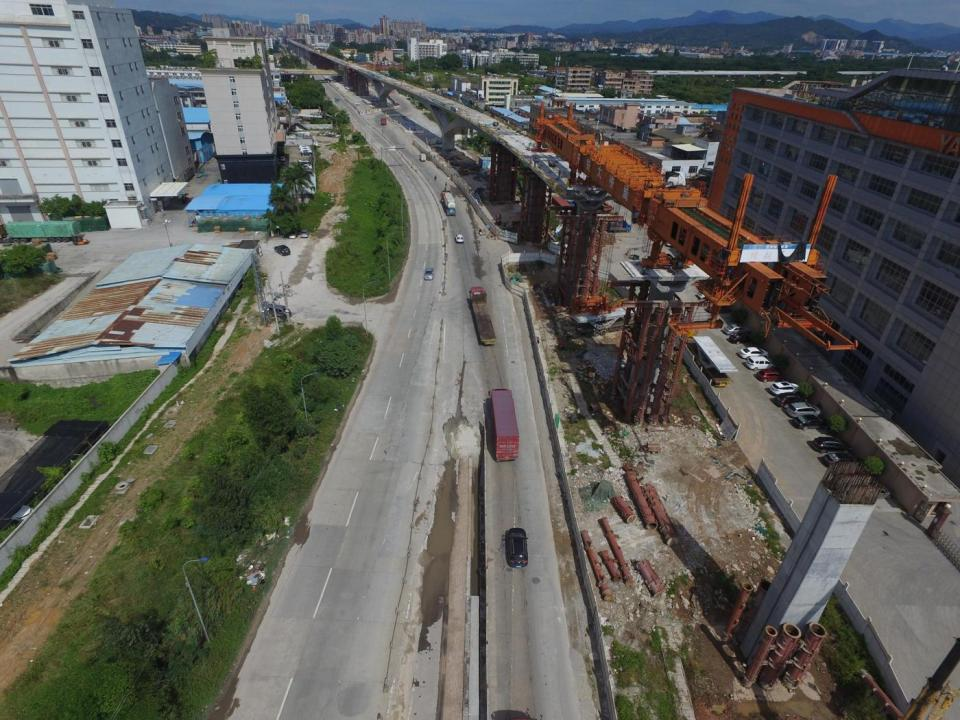bus: (335, 97, 340, 103)
car: (504, 528, 526, 567), (0, 502, 32, 525), (813, 436, 852, 454), (786, 401, 823, 417), (792, 415, 826, 430), (824, 454, 859, 468), (775, 393, 808, 407), (756, 368, 786, 383), (746, 357, 776, 371), (770, 382, 799, 395), (740, 348, 770, 360), (723, 324, 751, 336), (695, 288, 721, 300), (730, 333, 754, 344), (706, 303, 732, 313), (275, 245, 290, 256), (425, 267, 434, 280), (288, 228, 298, 239), (456, 233, 464, 243), (301, 229, 309, 238), (301, 150, 312, 156), (300, 164, 313, 169), (298, 159, 310, 164), (299, 145, 309, 149), (299, 149, 311, 152), (280, 156, 285, 162)
truck: (675, 319, 736, 387), (488, 387, 520, 461), (0, 222, 83, 246), (468, 286, 495, 346), (552, 196, 575, 220), (440, 191, 456, 216), (607, 221, 631, 234), (419, 154, 425, 162), (380, 118, 386, 126)
van: (265, 304, 291, 317)
